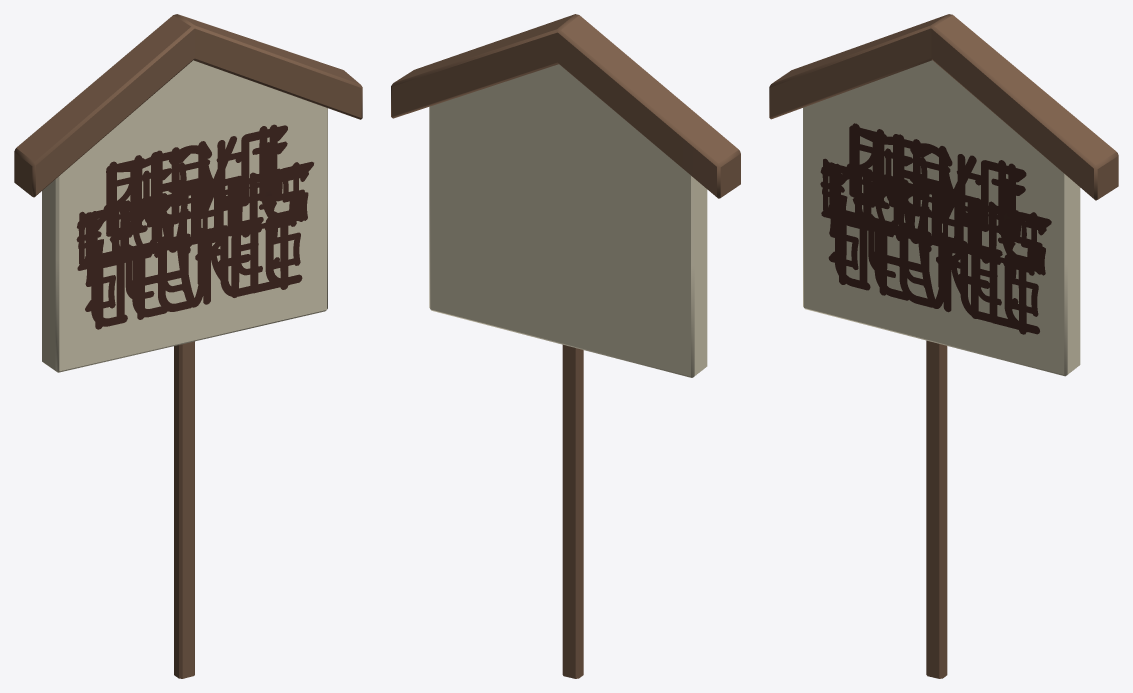
File: signs_house.fbx
The picture shows the model from 3 angles, left to right: view 1: azimuth 30°, elevation 25°; view 2: azimuth 150°, elevation 25°; view 3: azimuth 330°, elevation 25°; orthographic projection.
Visible parts, largest first — view 1: sign_levels01, sign_nextlevel01, sign_mainmenu01, sign_resetscores01, sign_restart, sign_settings01, sign_credits01; view 2: sign_levels01; view 3: sign_levels01, sign_mainmenu01, sign_nextlevel01, sign_resetscores01, sign_restart, sign_settings01, sign_credits01.
Part boxes in pixels (x1,y1,x2,y2): sign_levels01: (14, 14, 362, 678); sign_nextlevel01: (91, 125, 302, 326); sign_mainmenu01: (95, 124, 291, 329); sign_resetscores01: (84, 141, 300, 311); sign_restart: (76, 161, 313, 264); sign_settings01: (77, 171, 308, 270); sign_credits01: (85, 166, 305, 262); sign_levels01: (391, 14, 740, 678); sign_levels01: (769, 14, 1118, 678); sign_mainmenu01: (839, 123, 1030, 334); sign_nextlevel01: (835, 125, 1039, 334); sign_resetscores01: (828, 139, 1038, 316); sign_restart: (820, 158, 1051, 258); sign_settings01: (820, 167, 1046, 275); sign_credits01: (828, 162, 1043, 274).
Bounding box in the file's own units: 78.58 × 148 × 9.52.
